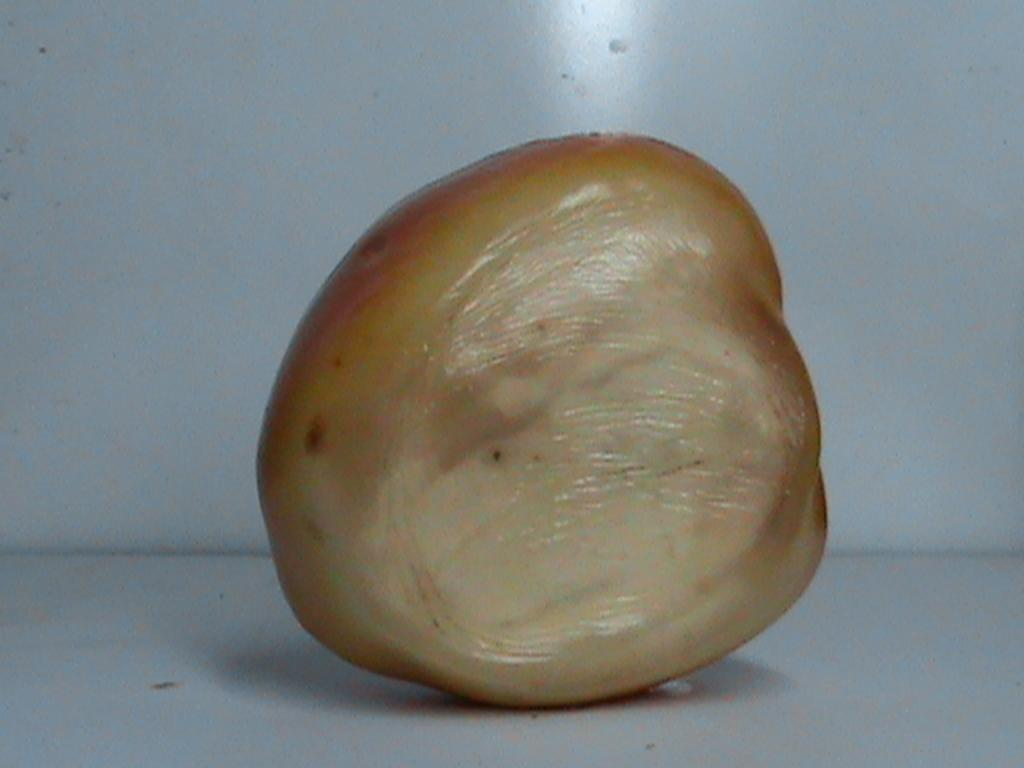bruise_discoloration: (274, 161, 820, 689)
tomato: (259, 134, 824, 704)
